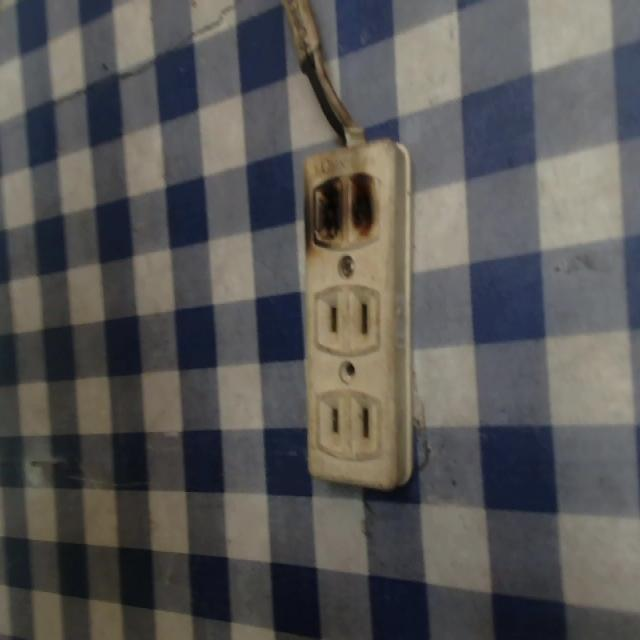-: (296, 164, 387, 247)
